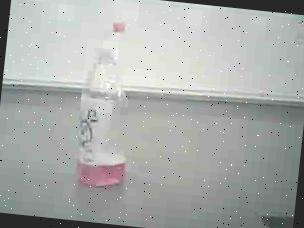hazard: (67, 16, 147, 195)
